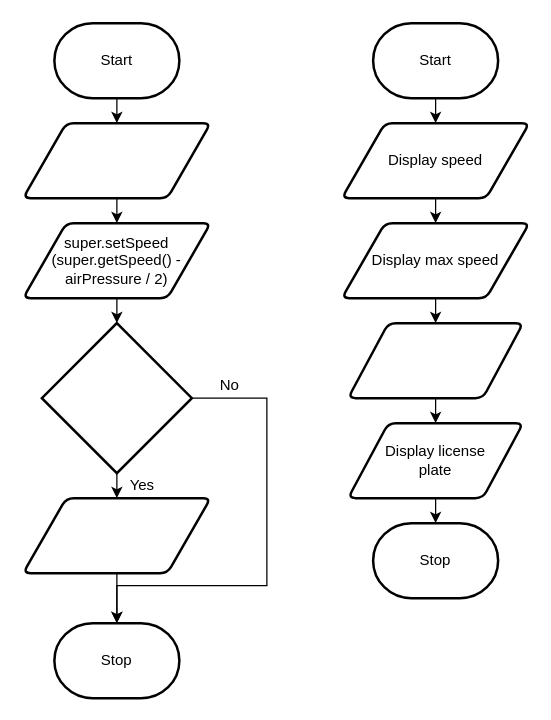
The diagram is 551 pixels wide and 720 high, and some of its shapes have lost their labels. The centre of each missing label's shape, as x and y in pixels:
Display color: the point at 435,360
get airPressure: the point at 116,160
if super. getSpeed() < 0: the point at 116,397
super.setSpeed(0): the point at 116,535
